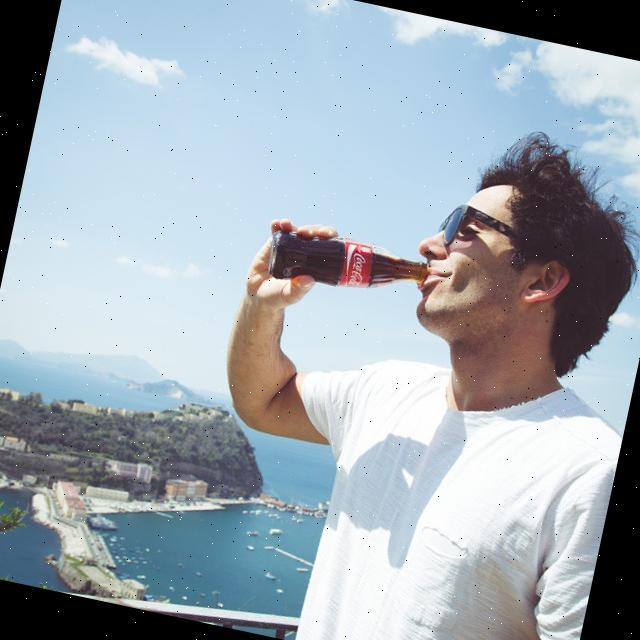coca-cola: (261, 219, 435, 309)
